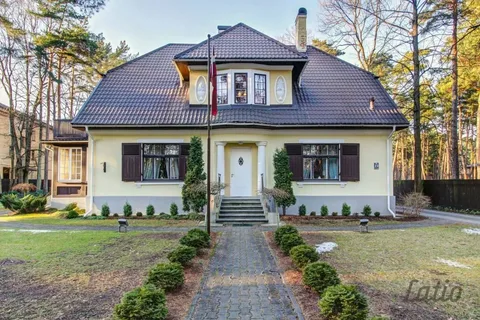private_hause: (91, 36, 408, 222)
